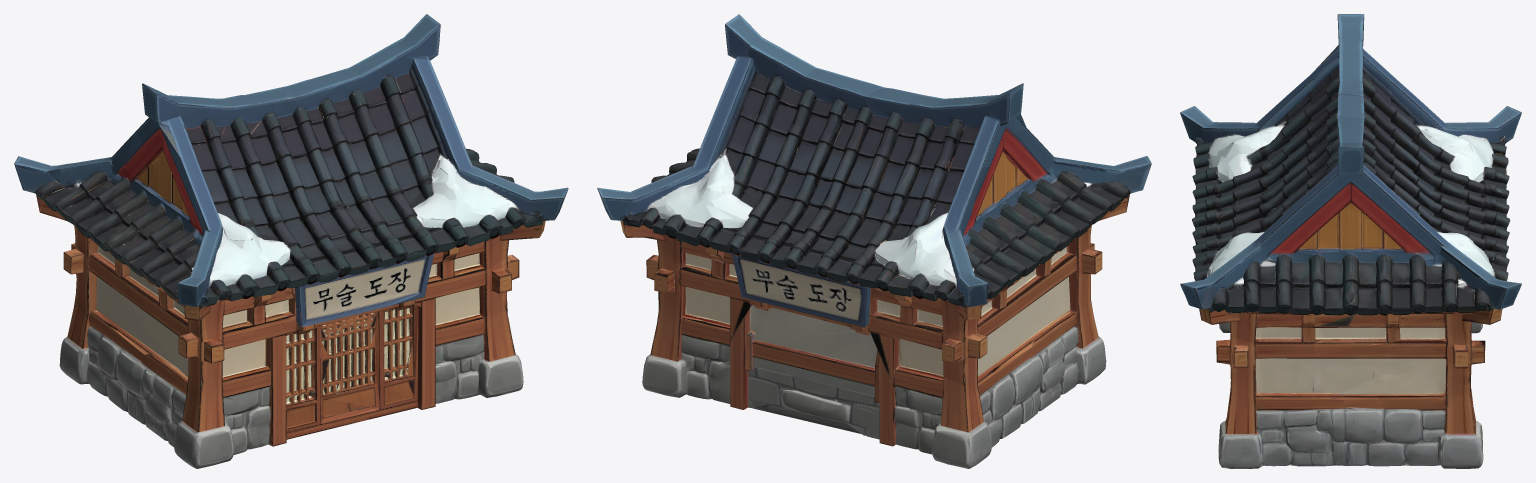
File: dojo.glb
The picture shows the model from 3 angles, left to right: view 1: azimuth 30°, elevation 25°; view 2: azimuth 150°, elevation 25°; view 3: azimuth 270°, elevation 25°; orthographic projection. The views are drawn at different scales.
Size of the model in its own units: 1.9 by 1.52 by 1.5.
1 material, 1 textured.
